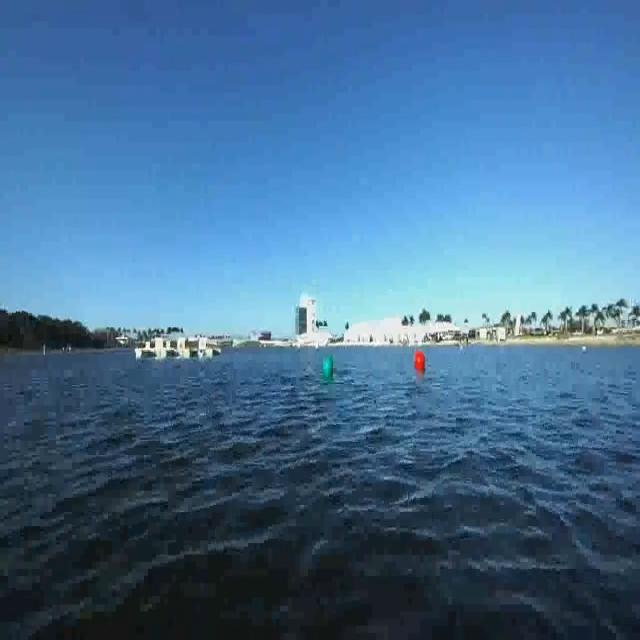green-buoy: (324, 355, 334, 376)
red-buoy: (414, 350, 426, 371)
